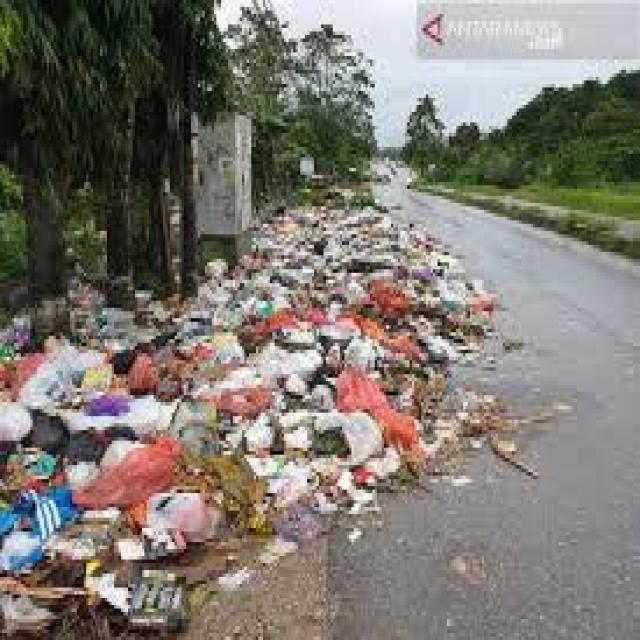trash: (0, 233, 529, 640)
